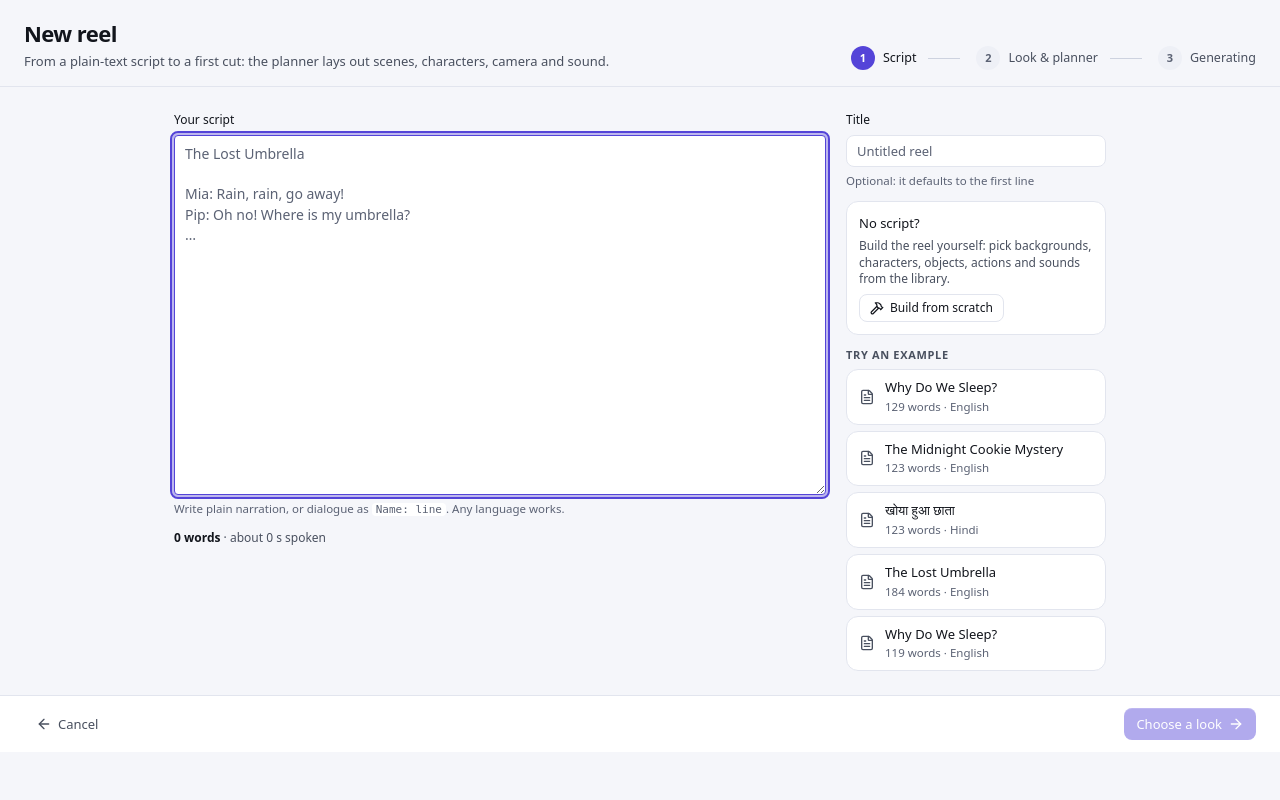
Test: the new-reel wizard › checks the script against the library as it is typed and offers to add what is missing
Type "The guard raised his sword at the castle gate." into the text box named "your script" at (500, 315), box [174,135,826,495]
(page scrolled)
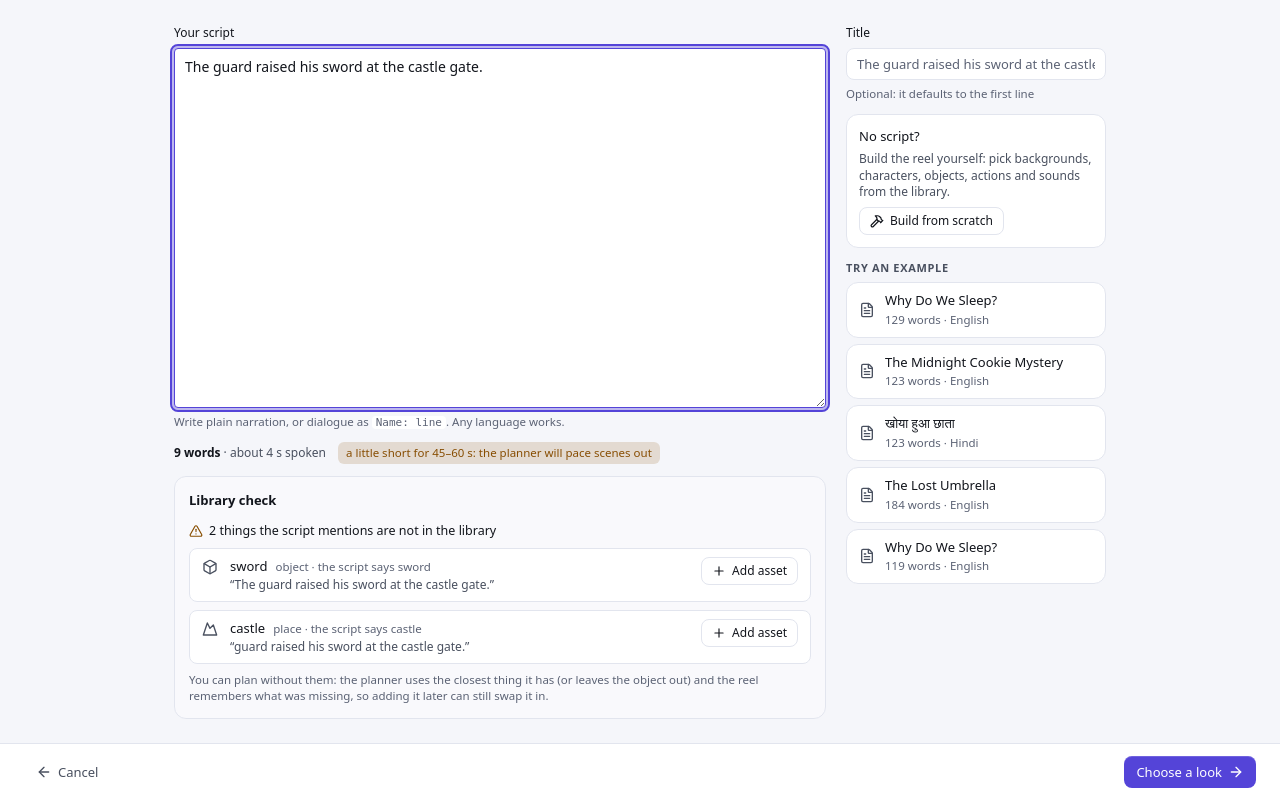
Expected: the heading "Library check" is shown, [189,491,276,509]
Expected: the button with aria-label "add sword to the library" is enabled, [701,557,798,585]
Expected: the button with aria-label "add castle to the library" is enabled, [701,619,798,647]
